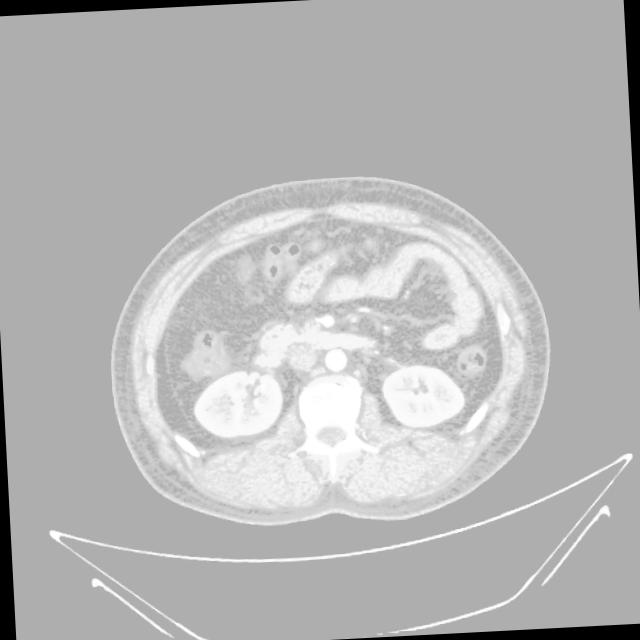NORMAL: (103, 157, 540, 525)
